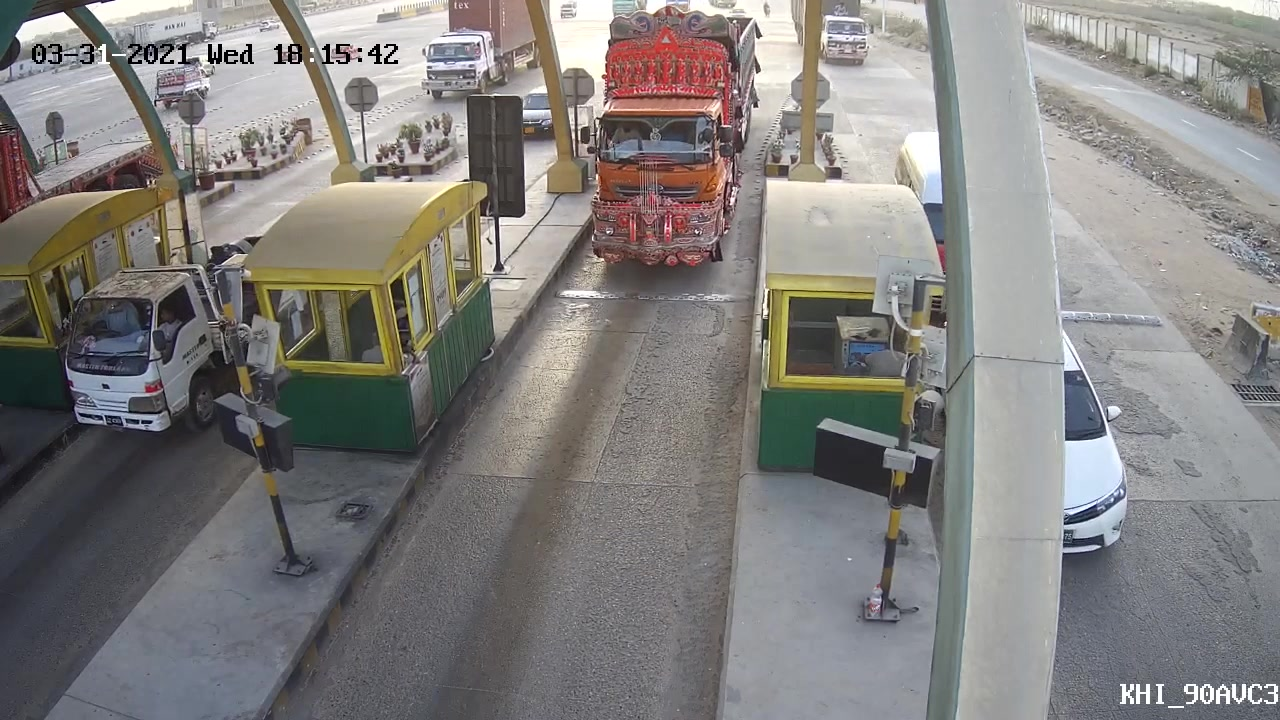F5: (574, 28, 755, 270)
